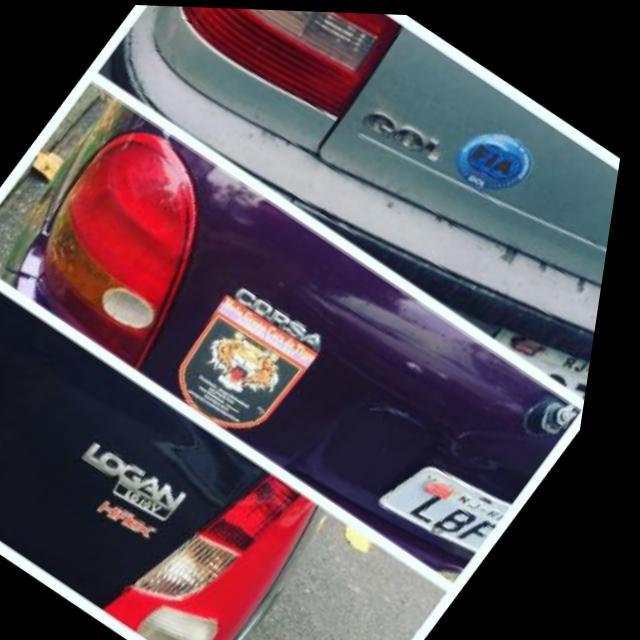license_plate: (384, 439, 535, 563)
